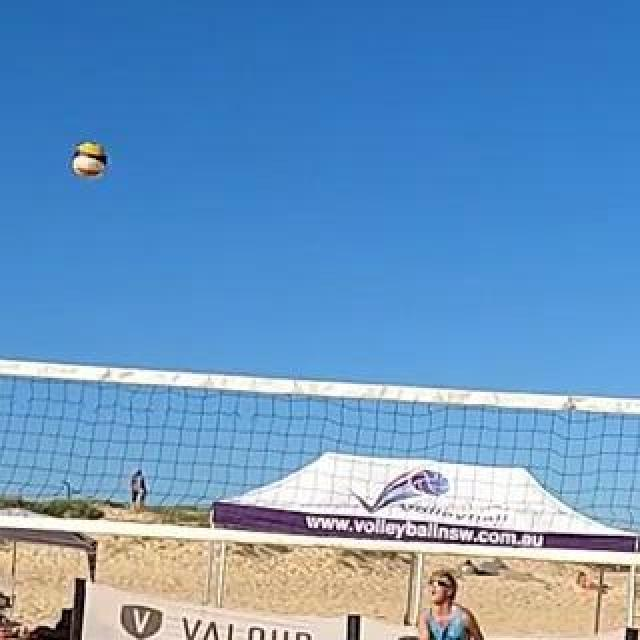volleyball: (72, 145, 106, 179)
